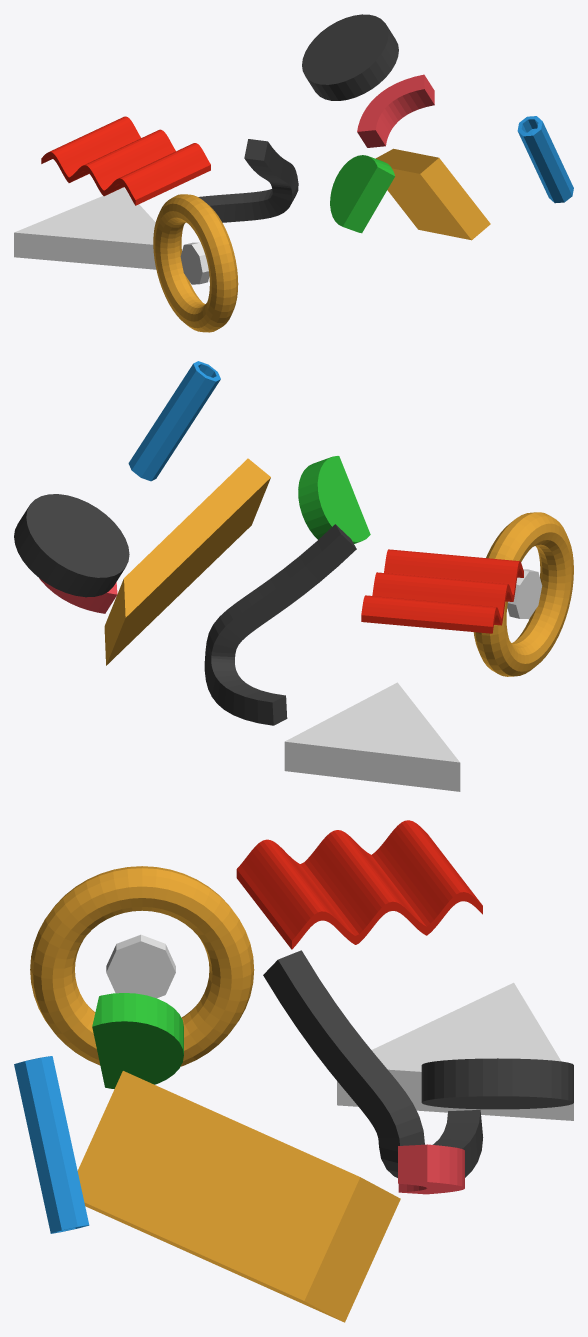
The picture shows the model from 3 angles, top to bottom: view 1: azimuth 30°, elevation 25°; view 2: azimuth 150°, elevation 25°; view 3: azimuth 270°, elevation 25°; orthographic projection. The views are drawn at different scales.
Visible parts, largest first — view 1: e1, e4, e2, ta2, ta3, to2, to1, ta4, ta1, e3; view 2: e4, ta3, e1, to2, ta2, e2, ta1, to1, e3, ta4; view 3: ta3, e2, e1, to2, e4, ta2, to1, ta1, e3, ta4.
Boxes of the visible parts, left/top/right/bottom form: e1: left=41, top=116, right=210, bottom=205; e4: left=14, top=187, right=156, bottom=269; e2: left=153, top=194, right=238, bottom=332; ta2: left=302, top=14, right=398, bottom=100; ta3: left=376, top=148, right=490, bottom=240; to2: left=198, top=139, right=298, bottom=222; to1: left=330, top=155, right=394, bottom=233; ta4: left=357, top=74, right=434, bottom=147; ta1: left=517, top=116, right=573, bottom=203; e3: left=180, top=242, right=209, bottom=284; e4: left=284, top=682, right=460, bottom=791; ta3: left=104, top=458, right=270, bottom=665; e1: left=361, top=549, right=523, bottom=633; to2: left=204, top=524, right=356, bottom=725; ta2: left=14, top=494, right=129, bottom=597; e2: left=473, top=512, right=573, bottom=676; ta1: left=128, top=361, right=220, bottom=481; to1: left=298, top=456, right=370, bottom=543; e3: left=507, top=569, right=542, bottom=619; ta4: left=39, top=578, right=117, bottom=613; ta3: left=77, top=1071, right=400, bottom=1322; e2: left=30, top=866, right=254, bottom=1066; e1: left=236, top=820, right=482, bottom=949; to2: left=263, top=950, right=483, bottom=1177; e4: left=337, top=982, right=573, bottom=1120; ta2: left=421, top=1058, right=573, bottom=1109; to1: left=92, top=993, right=183, bottom=1088; ta1: left=14, top=1056, right=89, bottom=1233; e3: left=106, top=934, right=175, bottom=998; ta4: left=398, top=1144, right=464, bottom=1194.
Bounding box in the file's own units: 1.39 × 0.5677 × 1.02.
